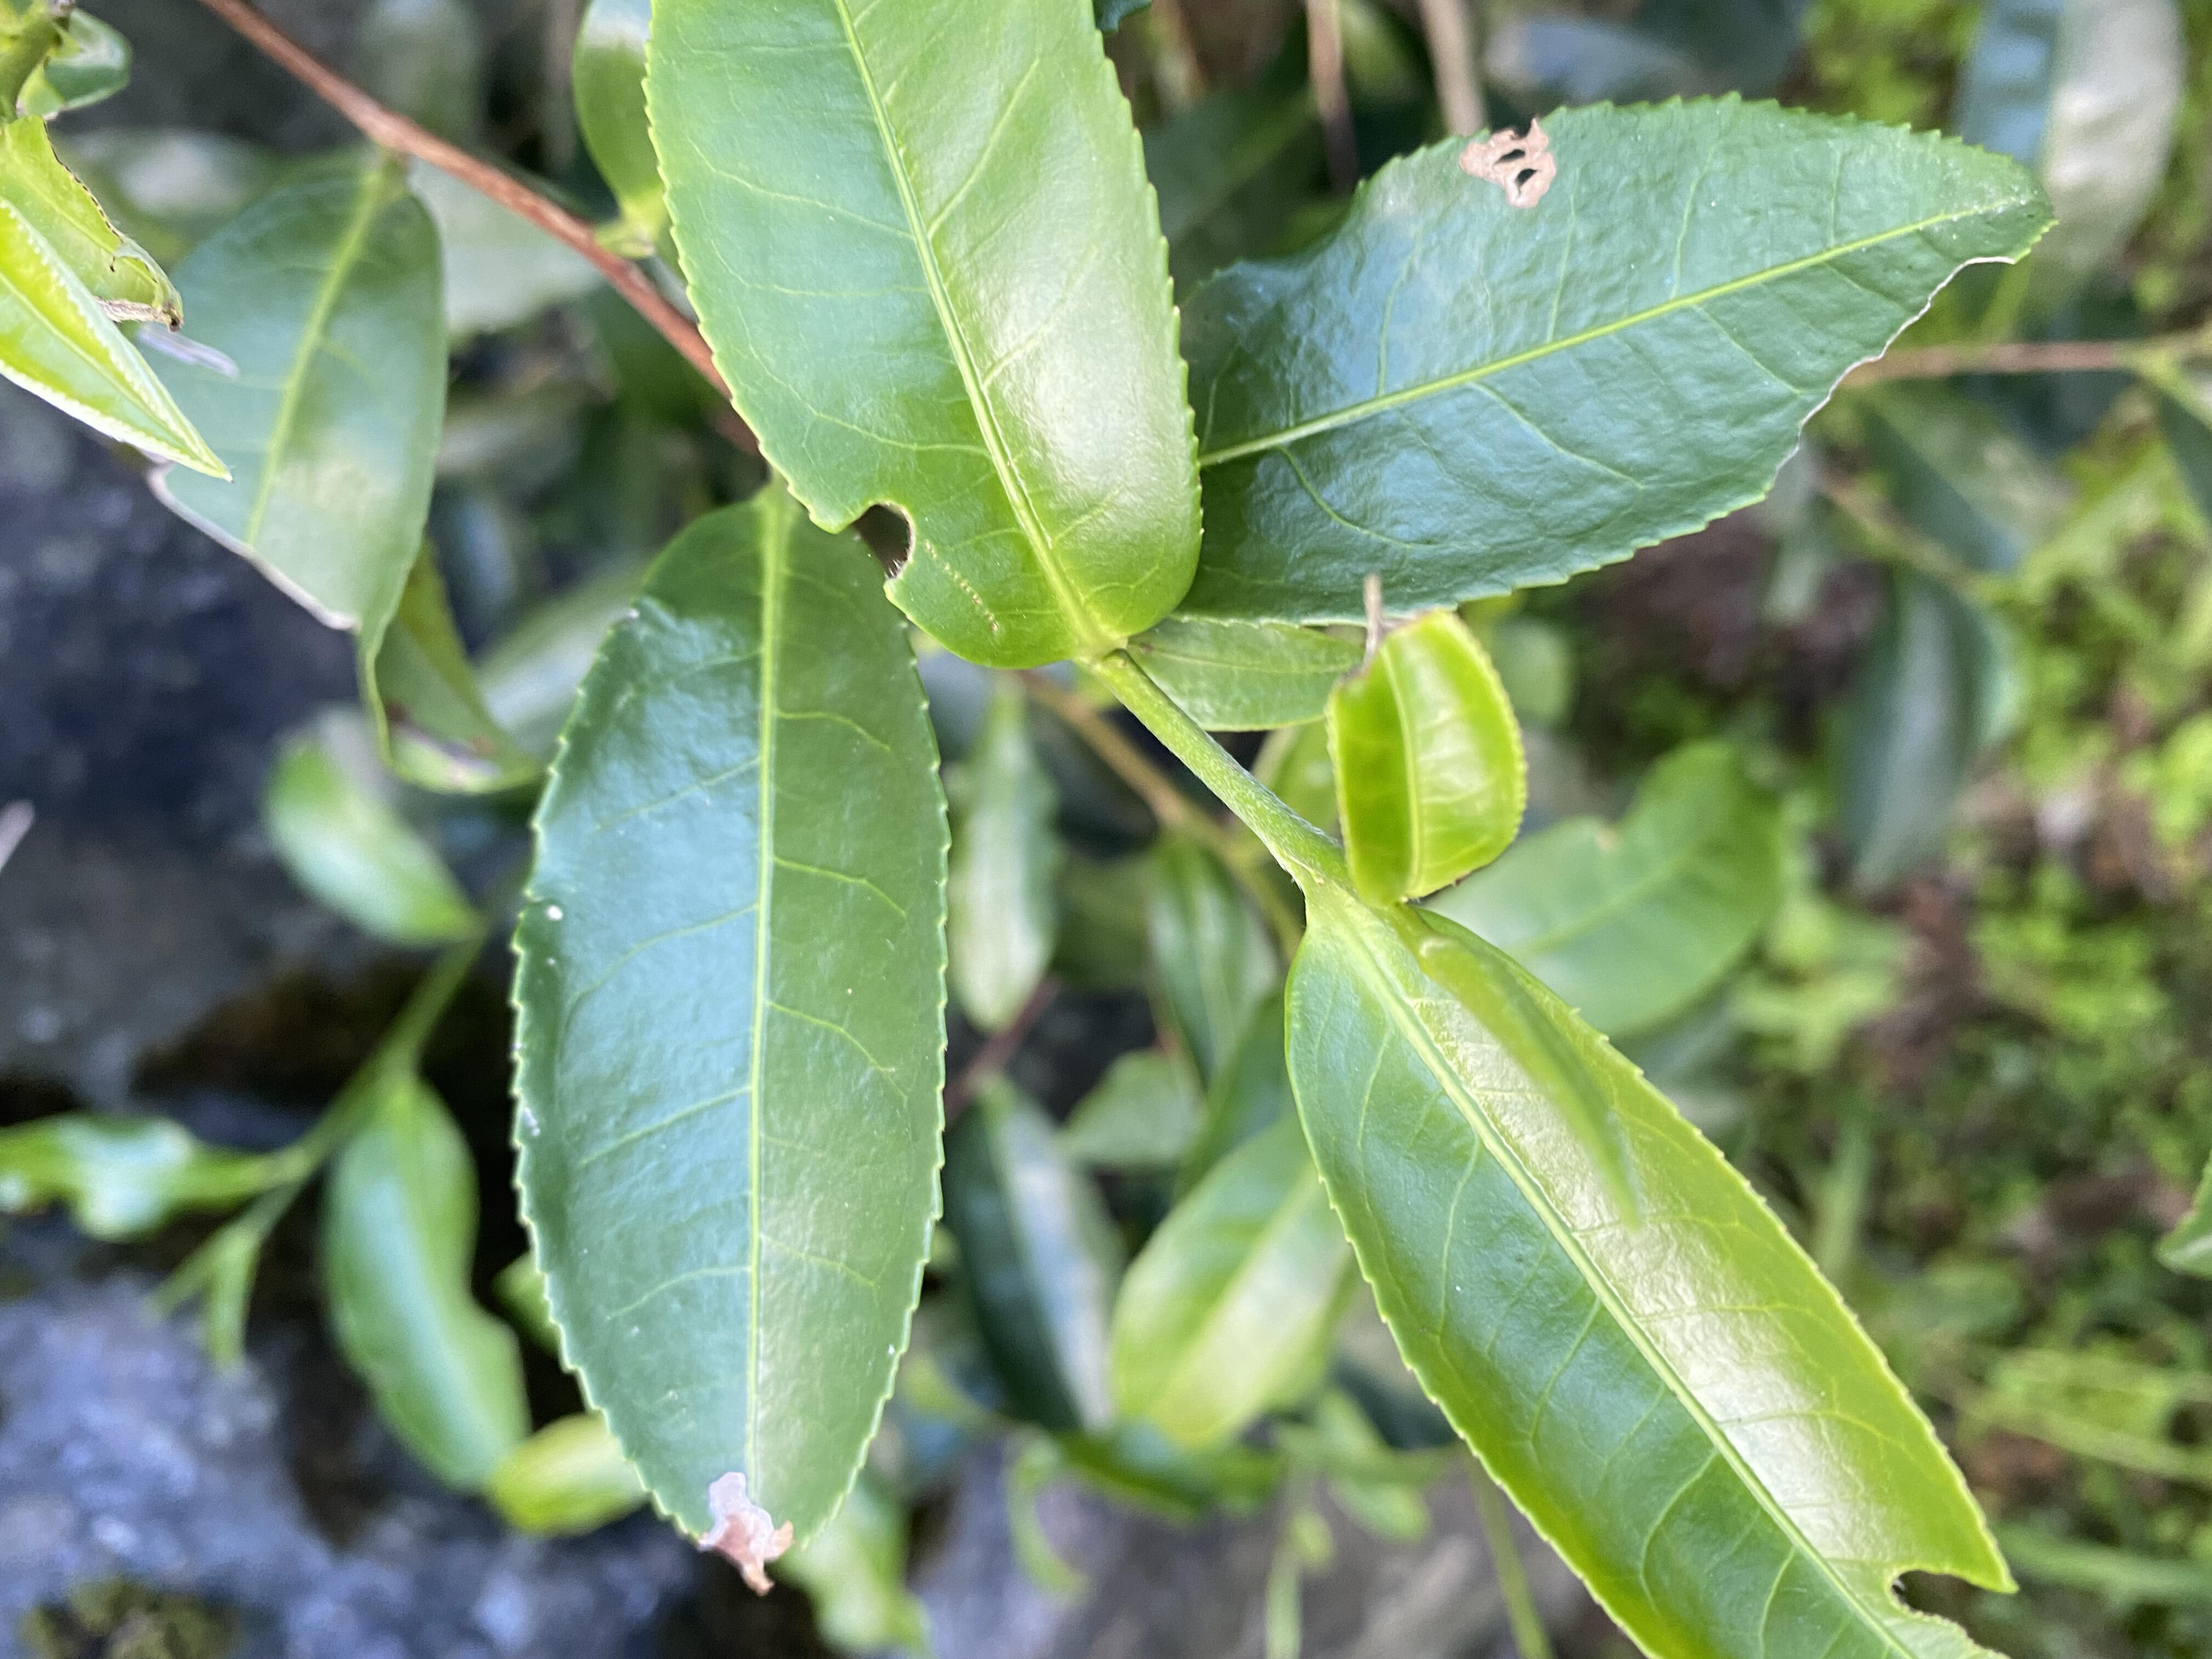chihuo_low: (1284, 904, 2033, 1659), (639, 2, 1207, 671)
tanju_high: (500, 488, 956, 1598)
